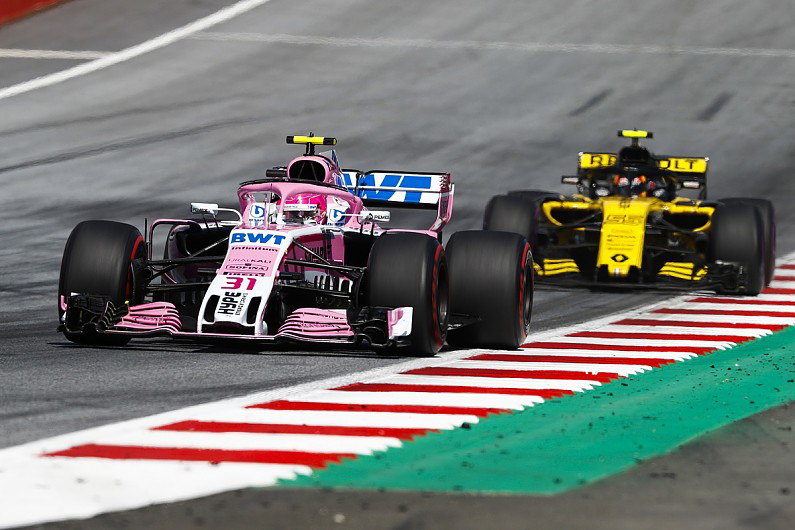F1 Car: (53, 127, 541, 363), (482, 125, 781, 303)
